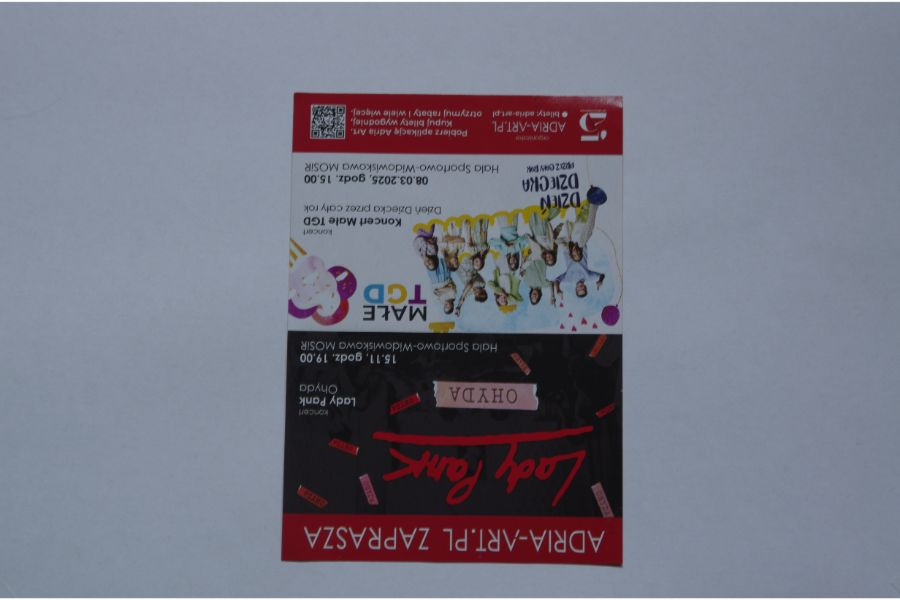album: (281, 92, 628, 571)
